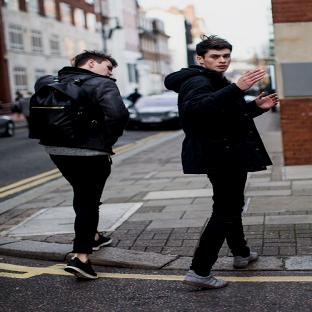Human: (165, 36, 278, 288), (29, 51, 129, 278)
